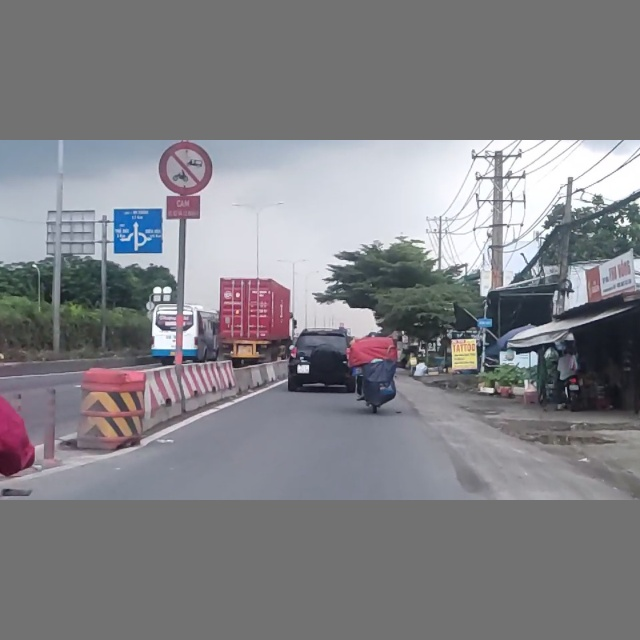P.111: (157, 141, 215, 195)
